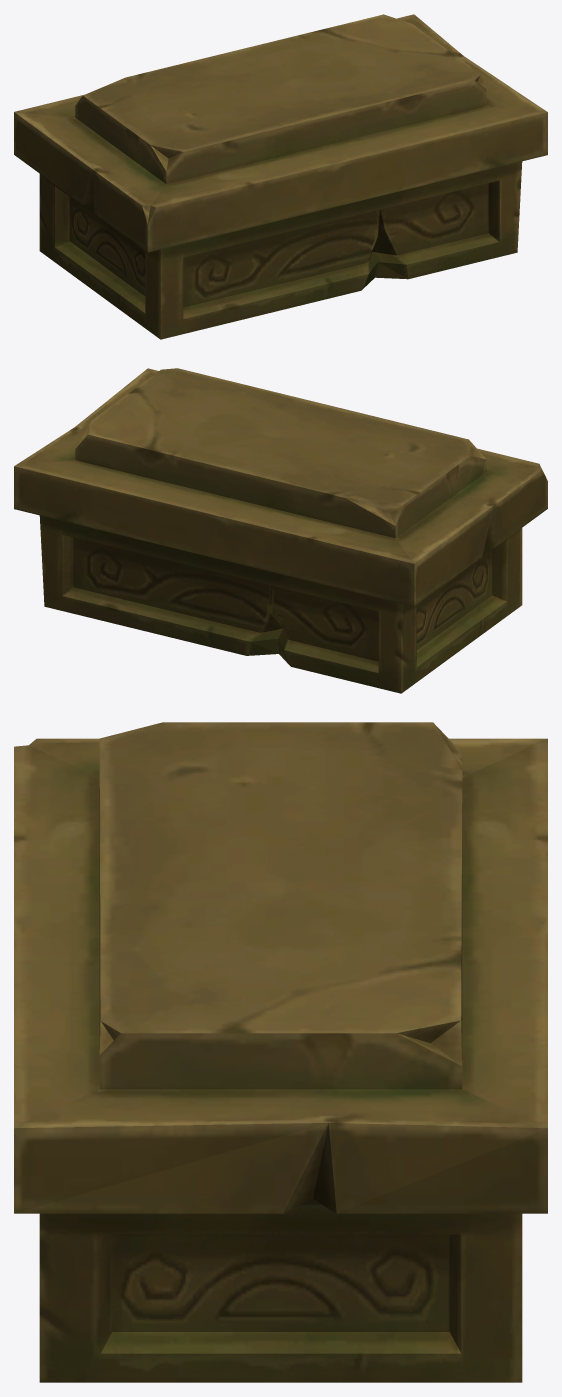
The model's file is estherian_casket_02.fbx.
The picture shows the model from 3 angles, top to bottom: view 1: azimuth 30°, elevation 25°; view 2: azimuth 150°, elevation 25°; view 3: azimuth 270°, elevation 25°; orthographic projection. The views are drawn at different scales.
Visible parts, largest first — view 1: obj0.325; view 2: obj0.325; view 3: obj0.325.
Part boxes in pixels (x1,y1,x2,y2): obj0.325: [14, 14, 547, 339]; obj0.325: [14, 368, 547, 693]; obj0.325: [14, 722, 547, 1382].
Bounding box in the file's own units: 3.49 × 1.4 × 2.02.
